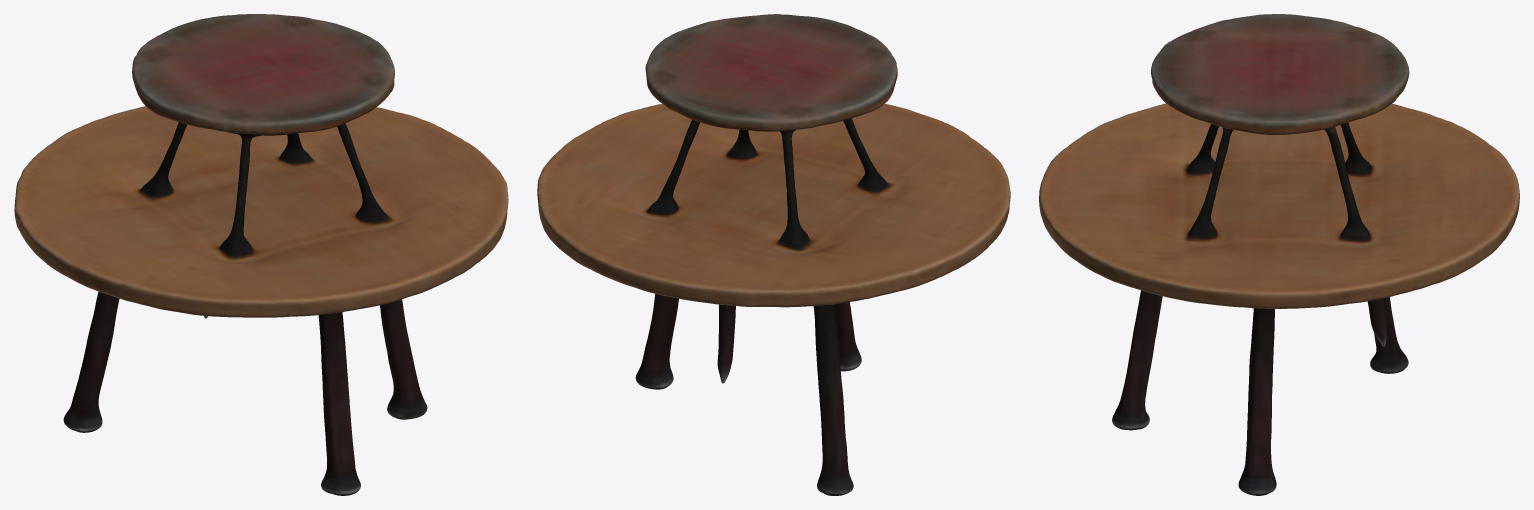
File: 8a3912cc7ffb_a_strange_table_wit.fbx
3 views of the same model, side by side, from view 1: azimuth 30°, elevation 25°; view 2: azimuth 150°, elevation 25°; view 3: azimuth 270°, elevation 25° (orthographic). The views are drawn at different scales.
Parts seen in each view (by area): view 1: high_poly; view 2: high_poly; view 3: high_poly.
Part boxes in pixels (box(x1,y1,x2,y2)): high_poly: box(14, 14, 508, 495); high_poly: box(537, 14, 1010, 495); high_poly: box(1039, 14, 1519, 495).
Bounding box in the file's own units: 99.66 × 82.62 × 100.
